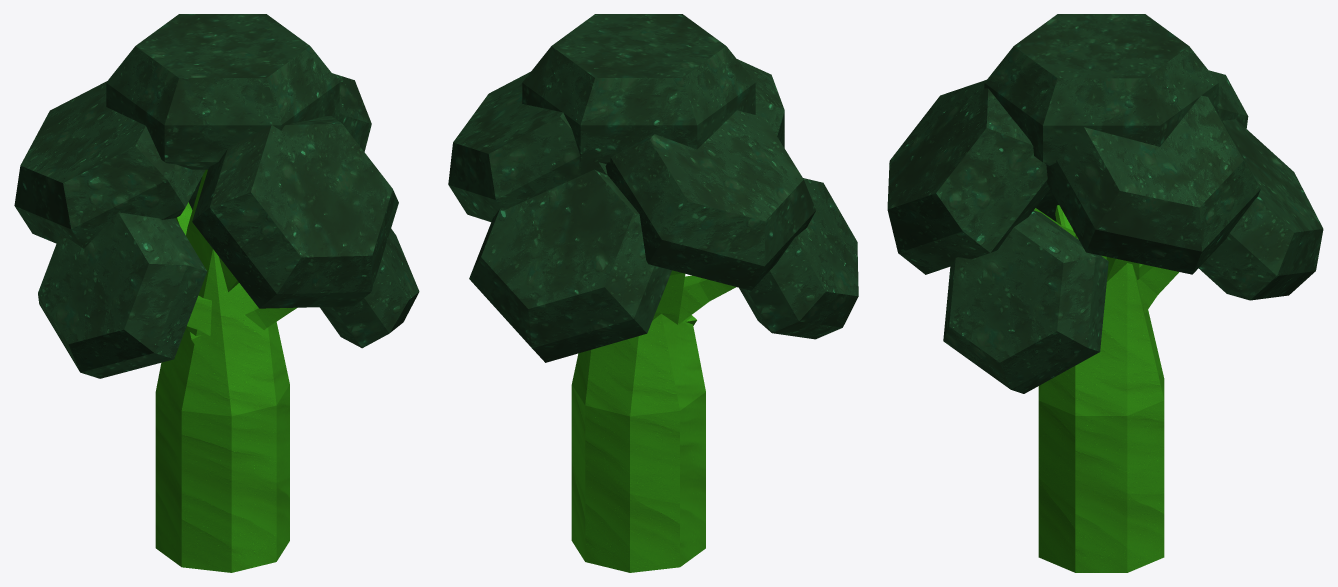
File: broccoli.glb
3 views of the same model, side by side, from view 1: azimuth 30°, elevation 25°; view 2: azimuth 150°, elevation 25°; view 3: azimuth 270°, elevation 25° (orthographic).
Parts seen in each view (by area): view 1: Brocolli_0; view 2: Brocolli_0; view 3: Brocolli_0.
Part boxes in pixels (x1=…): Brocolli_0: x1=14, y1=14, x2=419, y2=572; Brocolli_0: x1=448, y1=14, x2=858, y2=572; Brocolli_0: x1=887, y1=14, x2=1323, y2=572.
Bounding box in the file's own units: 1.13 × 1.59 × 1.26.
Materials: 2 (2 with a texture image).
